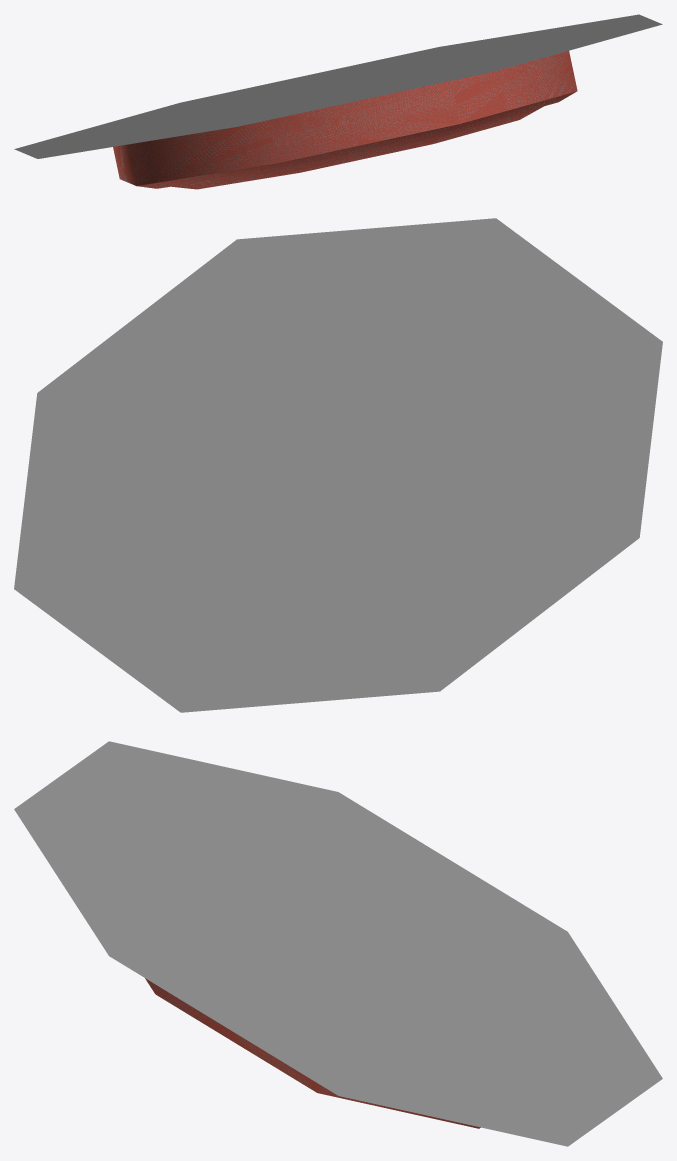
File: original-2.obj
The picture shows the model from 3 angles, top to bottom: view 1: azimuth 30°, elevation 25°; view 2: azimuth 150°, elevation 25°; view 3: azimuth 270°, elevation 25°; orthographic projection. The views are drawn at different scales.
Visible parts, largest first — view 1: mesh1/mesh1-geometry#mesh1-geometry; view 2: mesh1/mesh1-geometry#mesh1-geometry; view 3: mesh1/mesh1-geometry#mesh1-geometry.
Boxes of the visible parts, x1,y1,x2,y2 form: mesh1/mesh1-geometry#mesh1-geometry: (14, 14, 662, 189); mesh1/mesh1-geometry#mesh1-geometry: (14, 218, 662, 712); mesh1/mesh1-geometry#mesh1-geometry: (14, 741, 662, 1146).
Bounding box in the file's own units: 0.1435 × 0.0603 × 0.1304.
